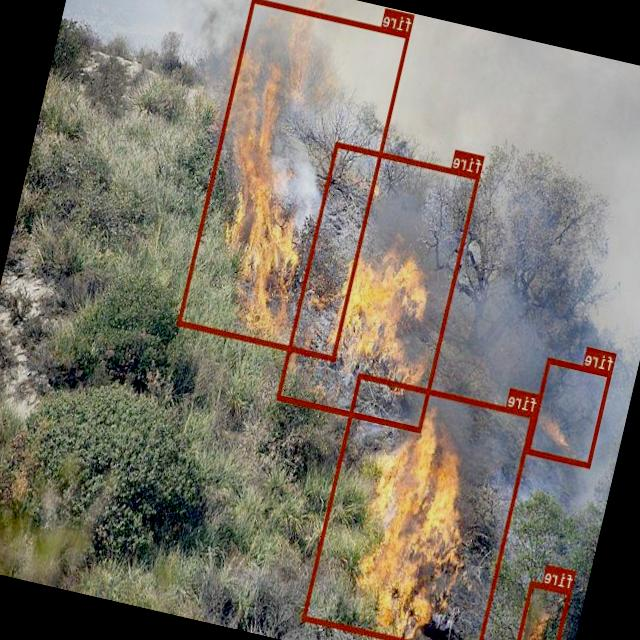fire: (177, 0, 411, 360), (302, 372, 535, 640), (276, 140, 480, 432), (526, 357, 612, 468), (511, 580, 572, 640)
